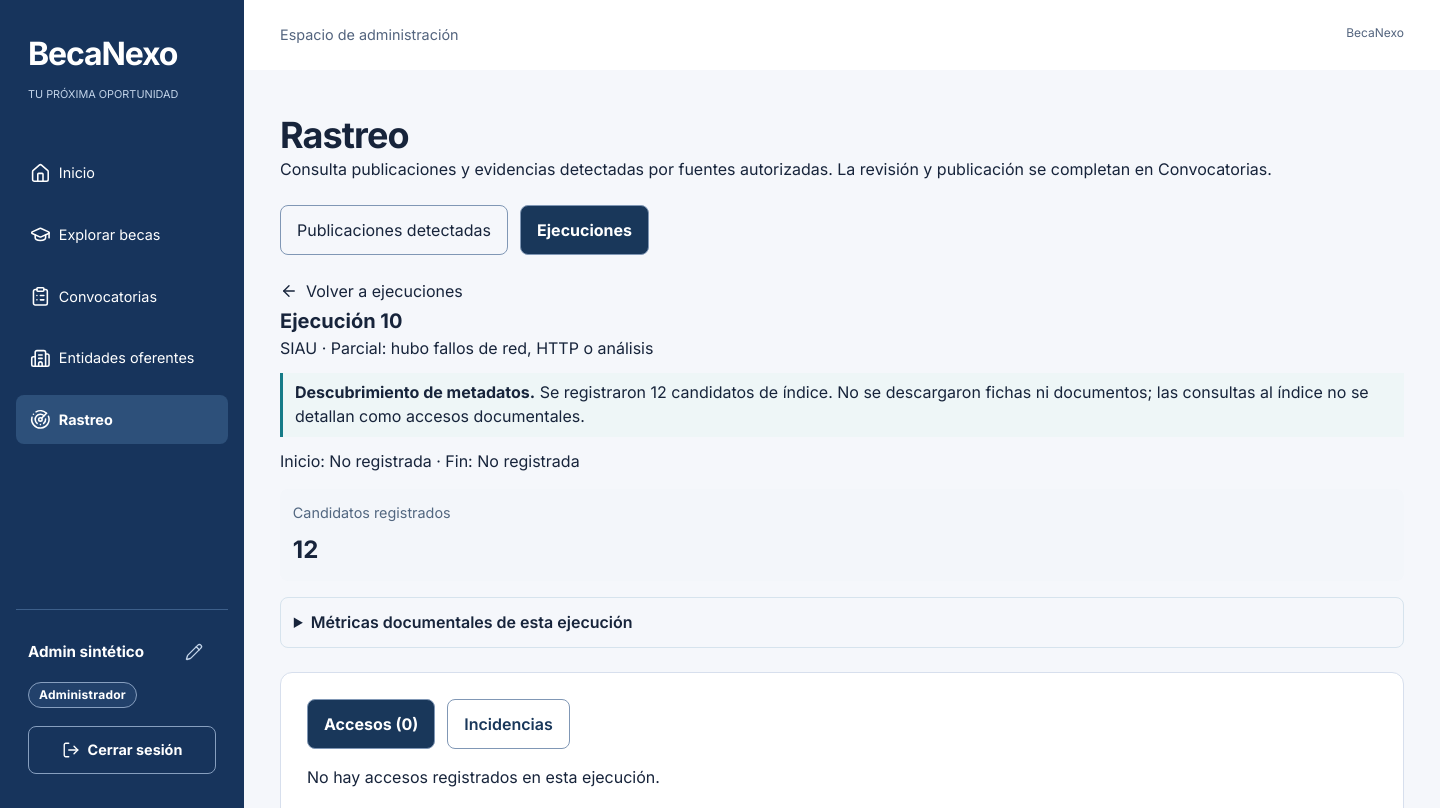
Test case: separa descubrimiento de metadatos y deja solo el resumen, sin listado de candidatos
Check: the text "Descubrimiento de metadatos." is shown, box [295,382,535,402]
Check: the text "SIAU · Parcial: hubo fallos de red, HTTP o análisis" is shown, box [280,338,653,358]
Click the heading "Métricas documentales de esta ejecución". click: [472, 622]
box: [311,612,632,632]
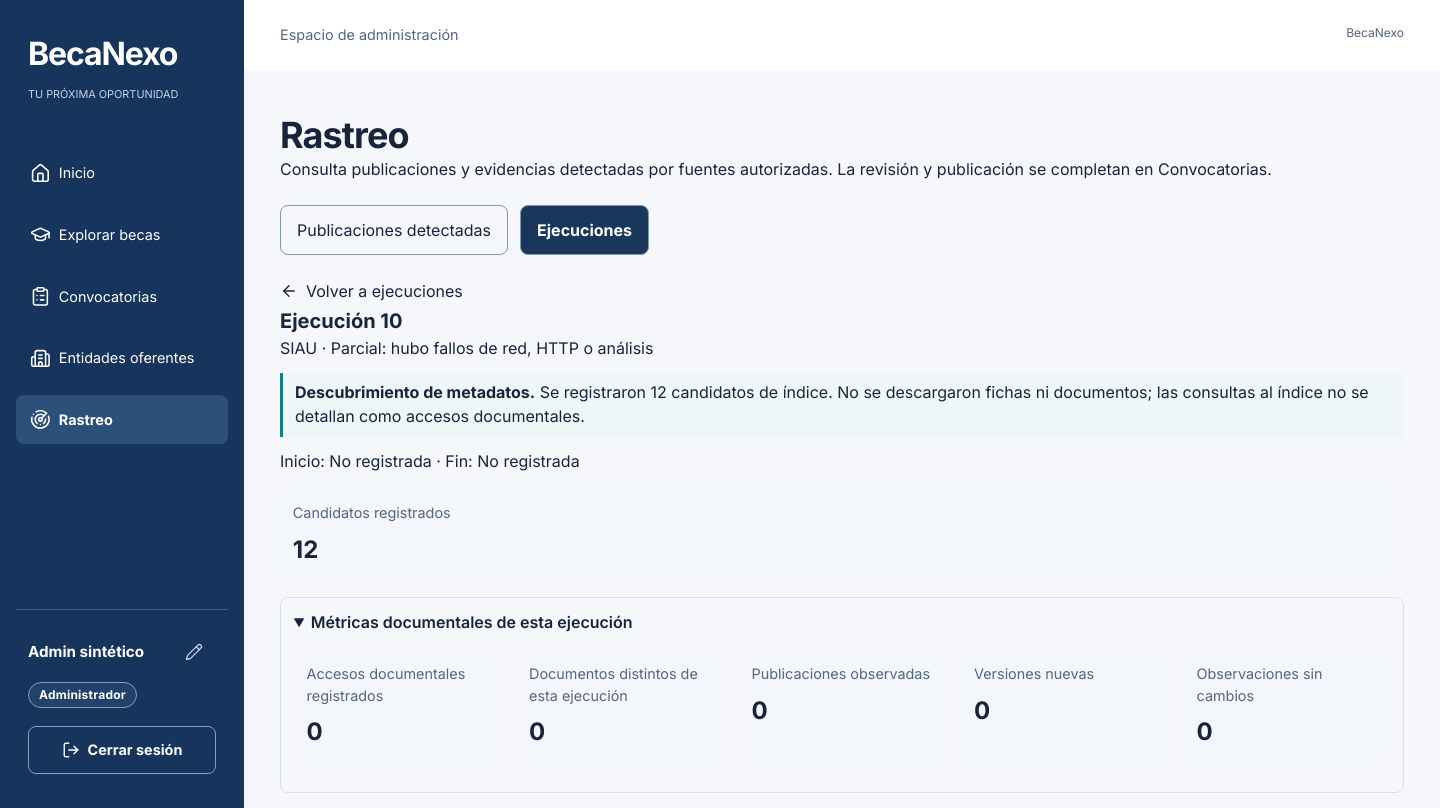
Check: the text "0" below "Publicaciones observadas" is shown, box [752,696,768,725]
